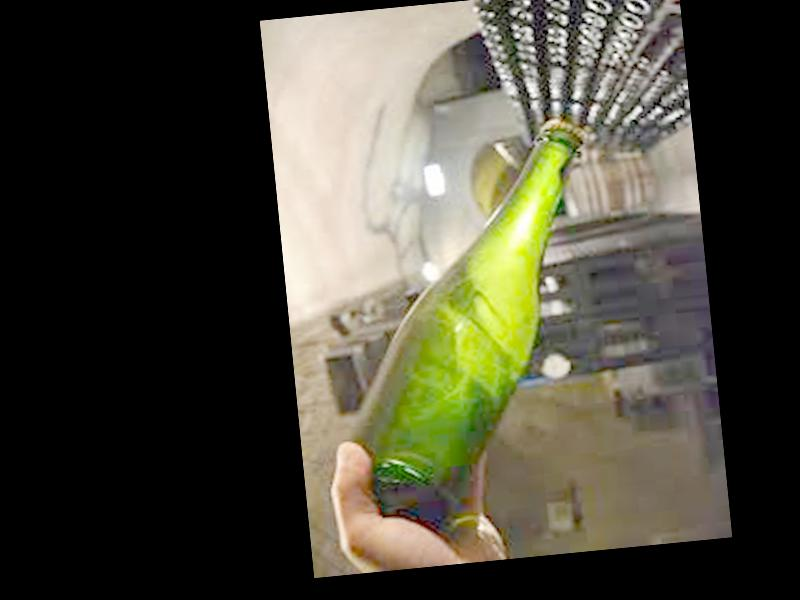Beer: (311, 114, 628, 535)
